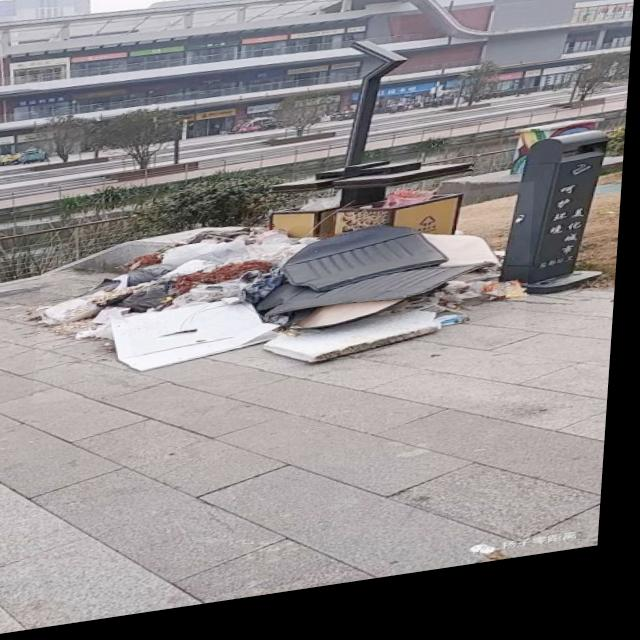garbage: (38, 199, 538, 407)
overflow: (266, 162, 477, 273)
